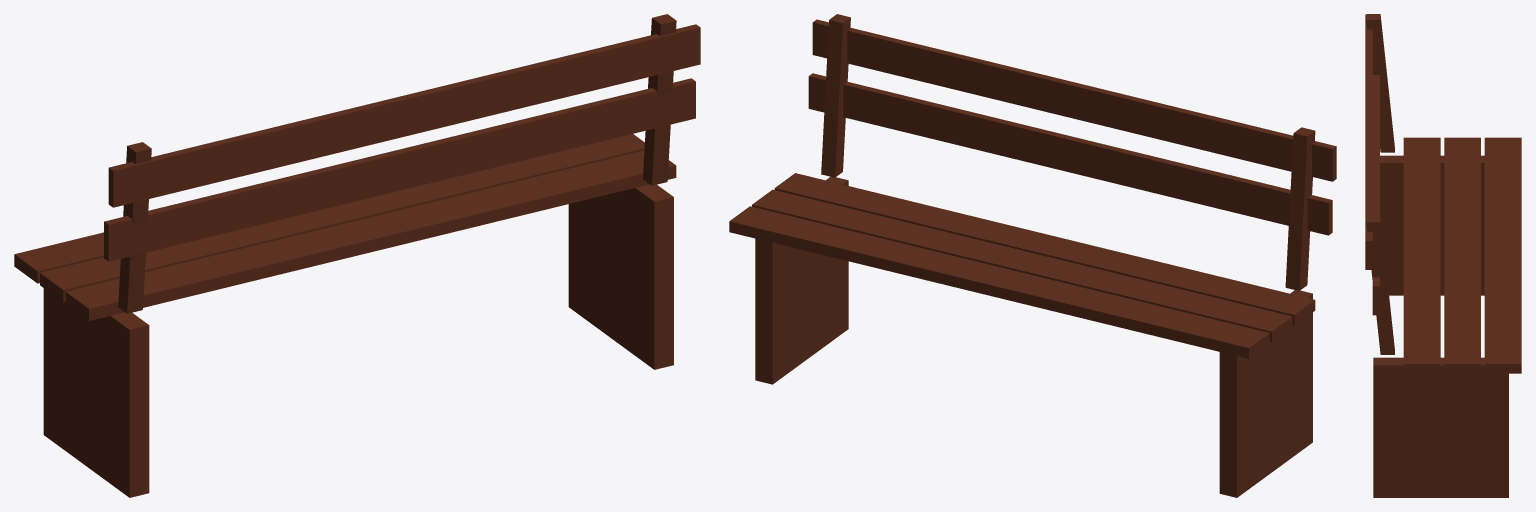
The model's file is parametric-bench-2nd.glb.
3 renders of one model, left to right at view 1: azimuth 30°, elevation 25°; view 2: azimuth 150°, elevation 25°; view 3: azimuth 270°, elevation 25°, orthographic. The views are drawn at different scales.
Parts seen in each view (by area): view 1: parametric-bench-2nd; view 2: parametric-bench-2nd; view 3: parametric-bench-2nd.
Boxes of the visible parts, x1,y1,x2,y2 form: parametric-bench-2nd: (14, 14, 700, 497); parametric-bench-2nd: (729, 14, 1336, 497); parametric-bench-2nd: (1365, 14, 1521, 497).
Bounding box in the file's own units: 1.5 × 0.85 × 0.4374.
